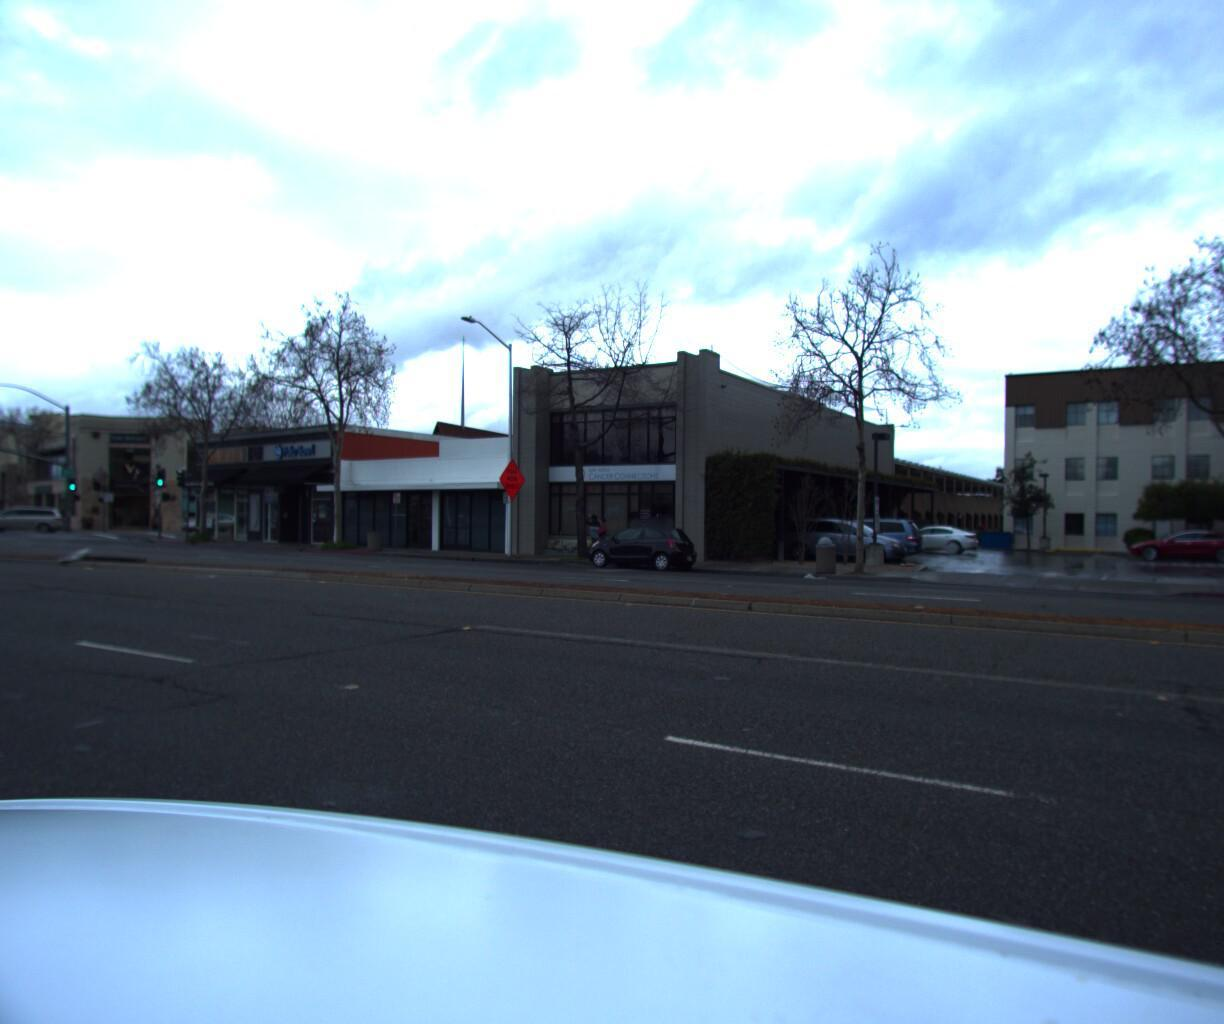car: (772, 516, 917, 571), (801, 517, 933, 571), (572, 525, 705, 579), (0, 508, 73, 533), (170, 513, 246, 533)
